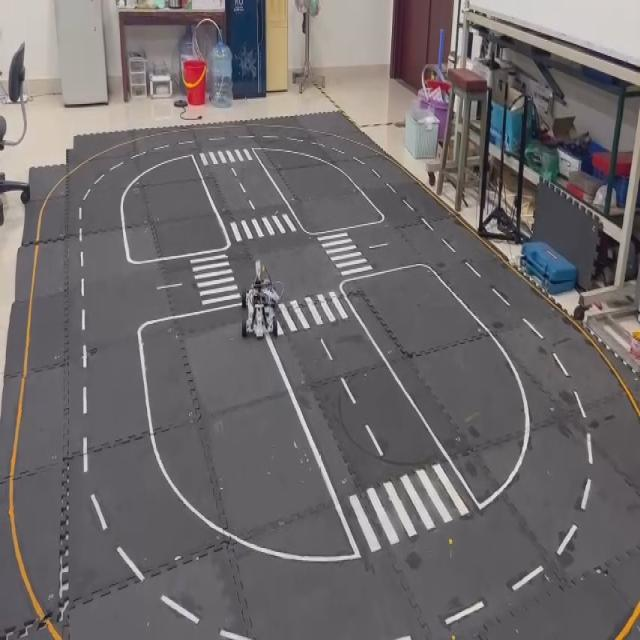SiCo-CAR: (240, 257, 282, 340)
